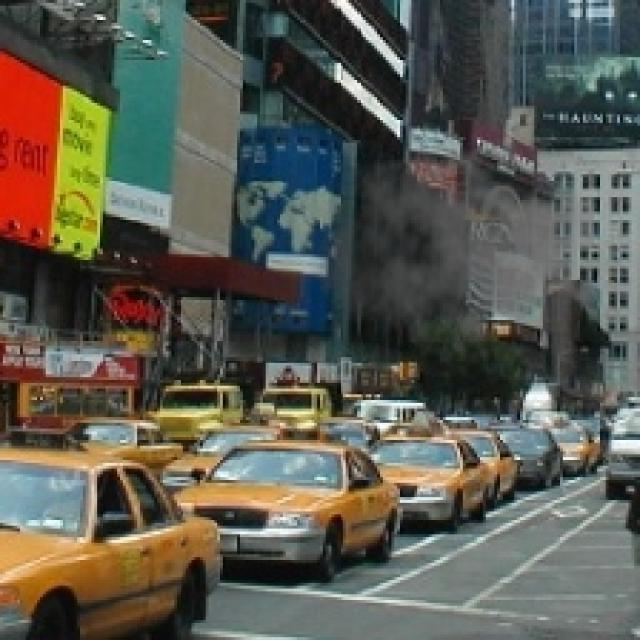smoke: (314, 137, 594, 369)
